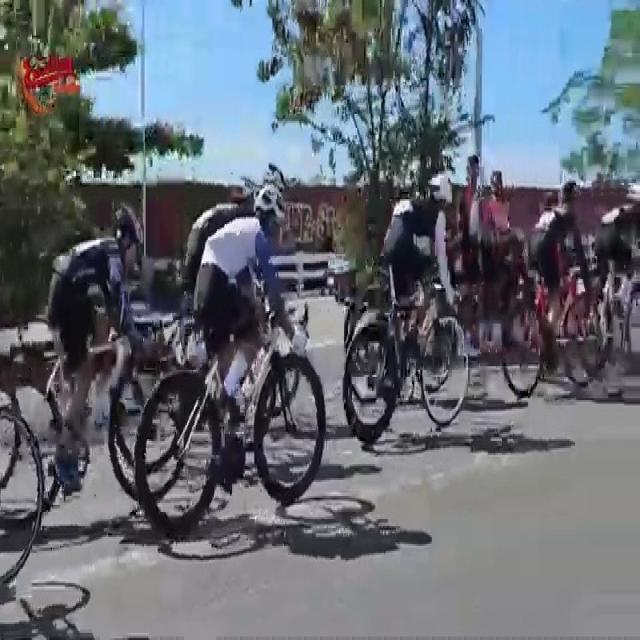bike: (136, 184, 328, 526), (18, 206, 182, 514), (113, 193, 256, 498), (340, 168, 470, 454), (500, 181, 608, 406), (578, 178, 640, 380), (0, 386, 45, 616), (0, 356, 19, 500)
